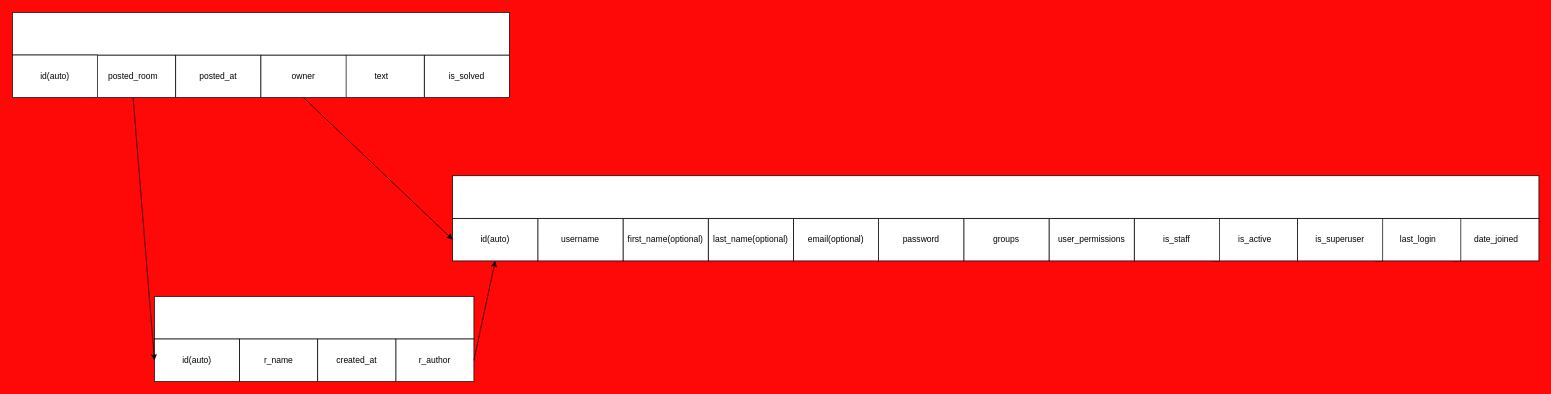
Image size: 1551x394. Some labels were removed from this diagram. Here are the shapes that lost their labels. From the top down, the centre of each, then its label:
pixel 260 33: Post
pixel 995 196: User
pixel 314 317: Room
